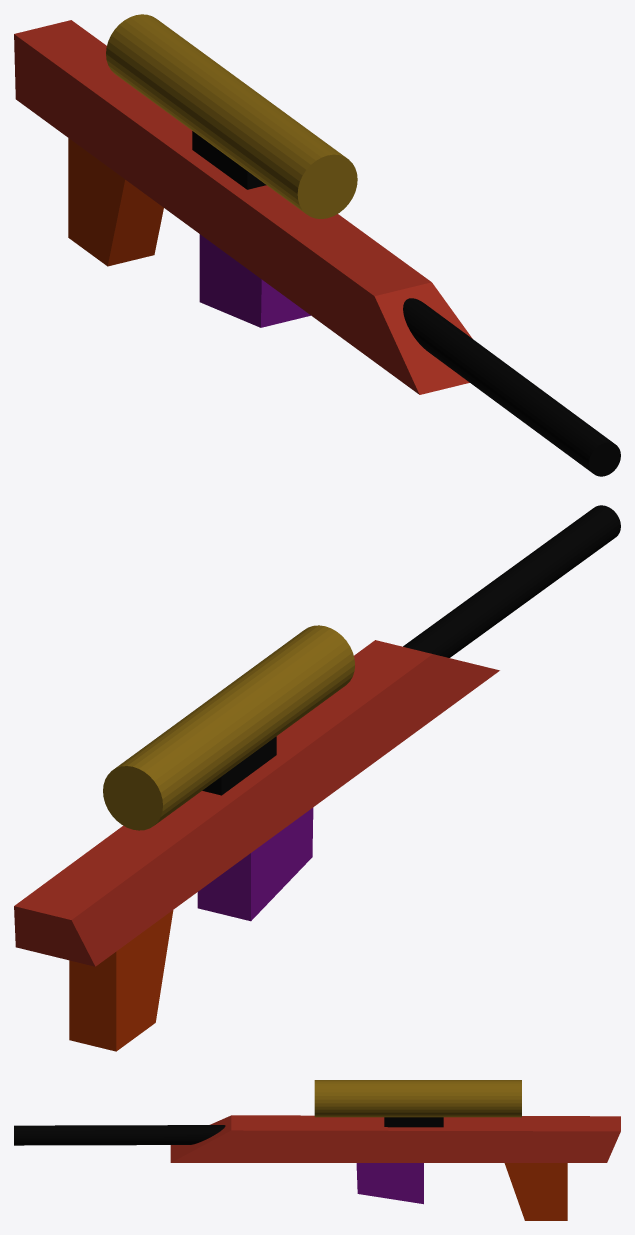
Rendered from sniperka_skin.fbx.
The picture shows the model from 3 angles, top to bottom: view 1: azimuth 30°, elevation 25°; view 2: azimuth 150°, elevation 25°; view 3: azimuth 270°, elevation 25°; orthographic projection. The views are drawn at different scales.
Parts seen in each view (by area): view 1: Cube, Cylinder, Cylinder.001, Cube.001, Cube.002, Cube.003; view 2: Cube, Cylinder, Cube.001, Cylinder.001, Cube.002, Cube.003; view 3: Cube, Cylinder, Cylinder.001, Cube.001, Cube.002, Cube.003.
Boxes of the visible parts, bbox=[...] form: Cube: bbox=[14, 20, 472, 394]; Cylinder: bbox=[106, 14, 357, 218]; Cylinder.001: bbox=[403, 298, 620, 476]; Cube.001: bbox=[68, 138, 163, 266]; Cube.002: bbox=[199, 234, 310, 327]; Cube.003: bbox=[192, 131, 266, 189]; Cube: bbox=[14, 640, 499, 966]; Cylinder: bbox=[103, 625, 354, 830]; Cube.001: bbox=[69, 910, 173, 1051]; Cylinder.001: bbox=[403, 505, 620, 657]; Cube.002: bbox=[197, 807, 313, 921]; Cube.003: bbox=[202, 736, 276, 795]; Cube: bbox=[170, 1115, 620, 1162]; Cylinder: bbox=[314, 1080, 521, 1117]; Cylinder.001: bbox=[14, 1125, 225, 1145]; Cube.001: bbox=[504, 1163, 567, 1220]; Cube.002: bbox=[356, 1163, 423, 1204]; Cube.003: bbox=[384, 1117, 443, 1127].
Size of the model in its own units: 136 by 405 by 1669.
